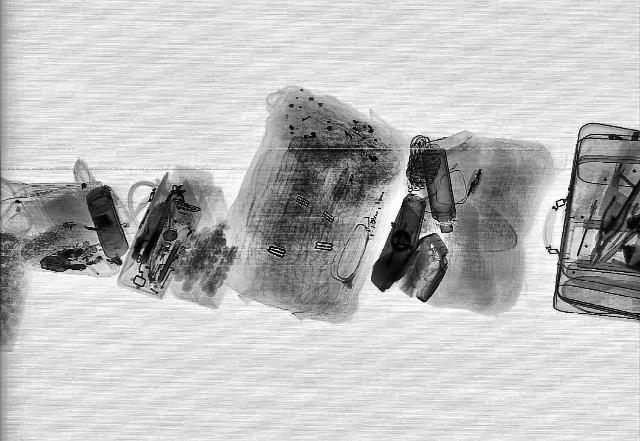Pliers: (579, 194, 635, 268)
